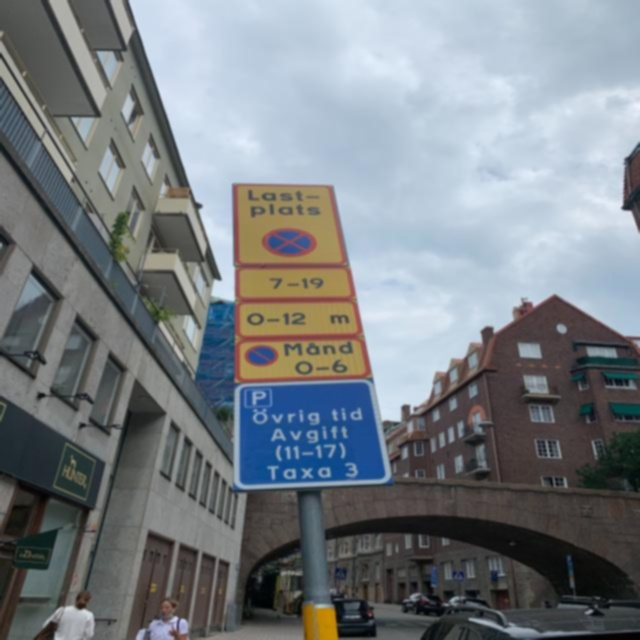P-skylt: (452, 571, 465, 582), (334, 568, 347, 579)
avstignnigsplats: (232, 184, 347, 265)
